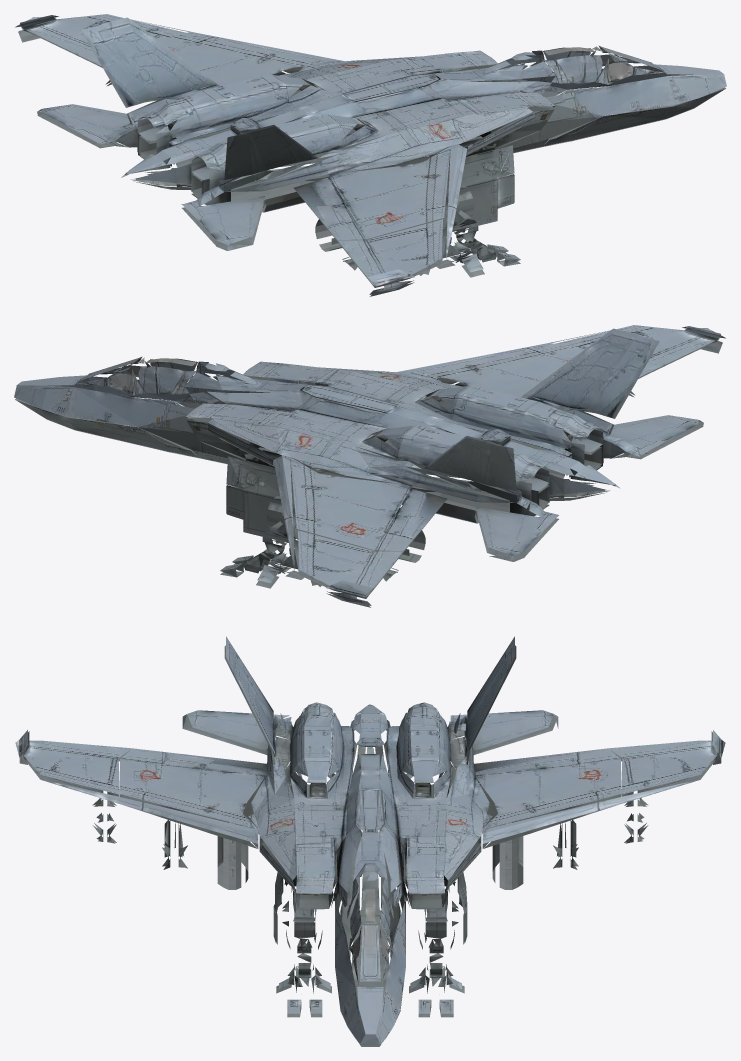
Rendered from valkyrie_LOD2.glb.
The picture shows the model from 3 angles, top to bottom: view 1: azimuth 30°, elevation 25°; view 2: azimuth 150°, elevation 25°; view 3: azimuth 270°, elevation 25°; orthographic projection.
Visible parts, largest first — view 1: valkyrie_LOD2; view 2: valkyrie_LOD2; view 3: valkyrie_LOD2.
Boxes of the visible parts, bbox=[...] form: valkyrie_LOD2: bbox=[15, 14, 726, 296]; valkyrie_LOD2: bbox=[14, 325, 725, 607]; valkyrie_LOD2: bbox=[15, 636, 725, 1046].
Bounding box in the file's own units: 0.9609 × 0.3503 × 1.
Materials: 1 (1 with a texture image).
